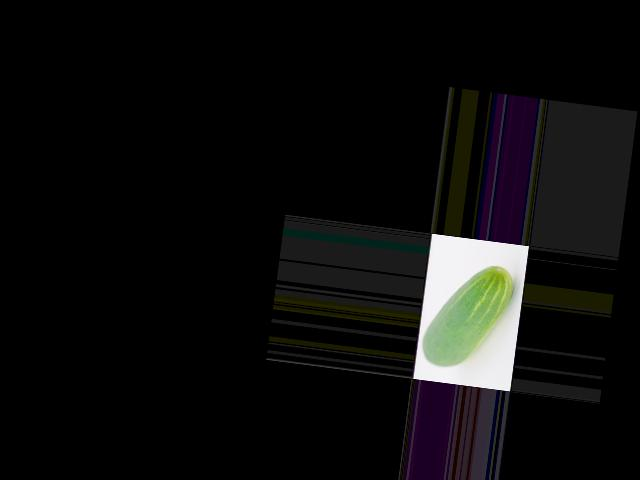cucumber: (420, 258, 515, 374)
